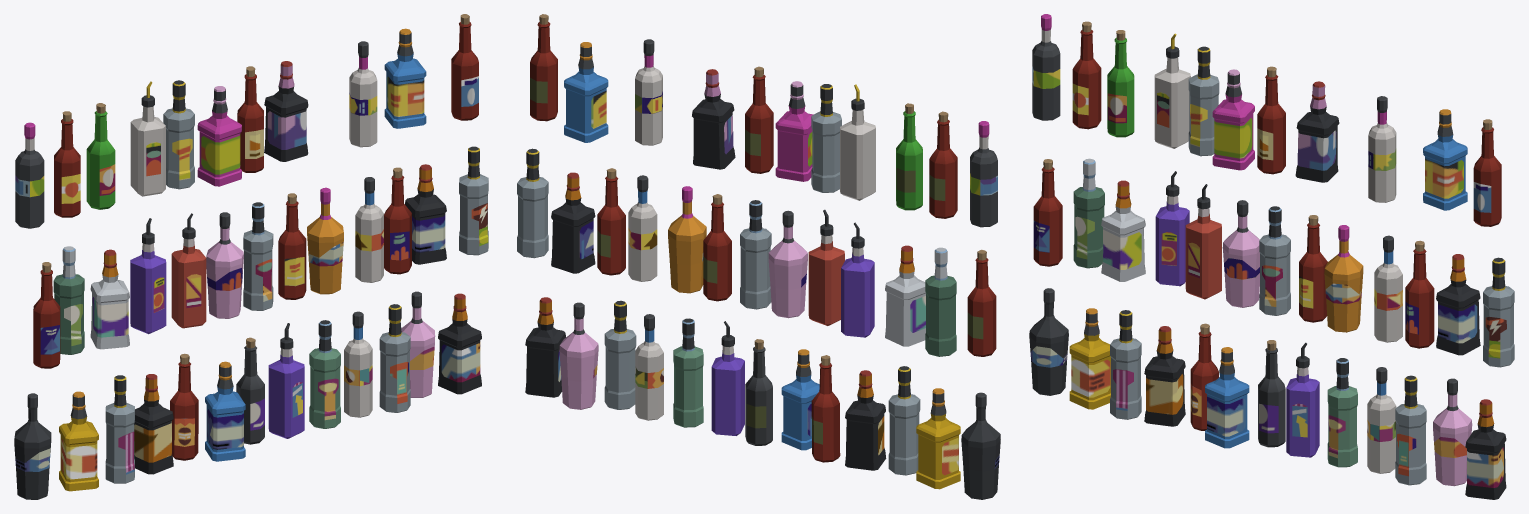
The model's file is SM_Bld_Shelf_01_Insert_01.fbx.
3 views of the same model, side by side, from view 1: azimuth 30°, elevation 25°; view 2: azimuth 150°, elevation 25°; view 3: azimuth 330°, elevation 25° (orthographic).
Parts seen in each view (by area): view 1: SM_Bld_Shelf_01_Insert_01; view 2: SM_Bld_Shelf_01_Insert_01; view 3: SM_Bld_Shelf_01_Insert_01.
Boxes of the visible parts, bbox=[...] form: SM_Bld_Shelf_01_Insert_01: bbox=[14, 14, 488, 499]; SM_Bld_Shelf_01_Insert_01: bbox=[517, 14, 1000, 499]; SM_Bld_Shelf_01_Insert_01: bbox=[1029, 14, 1514, 499].
Bounding box in the file's own units: 234 × 179 × 32.66.
Materials: 1 (1 with a texture image).
